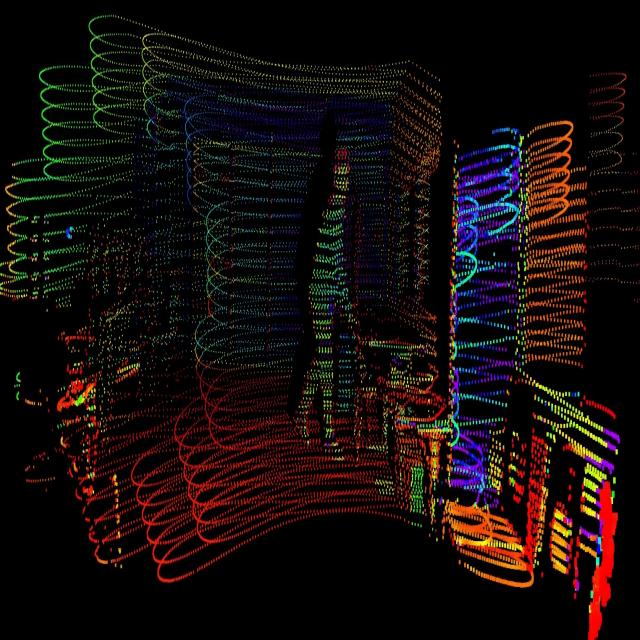human: (292, 141, 364, 469)
